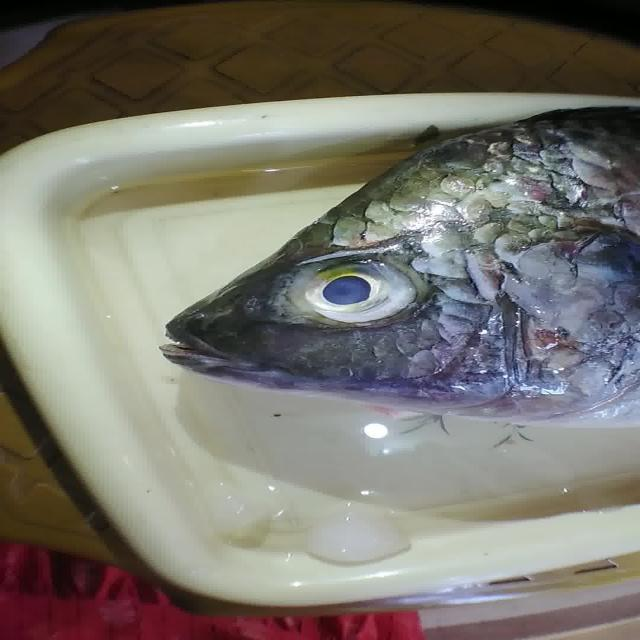Fresh: (280, 247, 444, 337)
